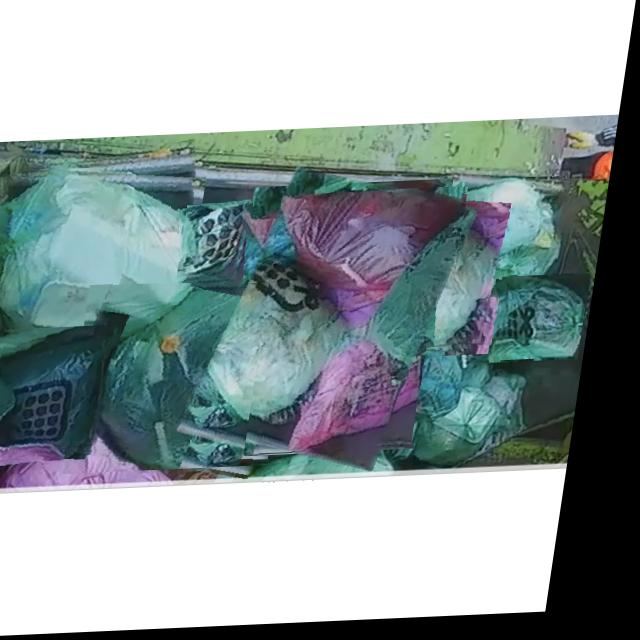general_trashbag: (87, 286, 307, 472), (5, 171, 204, 348), (325, 211, 507, 353), (0, 327, 125, 452), (461, 183, 567, 303), (511, 282, 595, 365), (184, 208, 259, 290), (397, 192, 467, 253)
other_trashbag: (288, 195, 472, 456)
